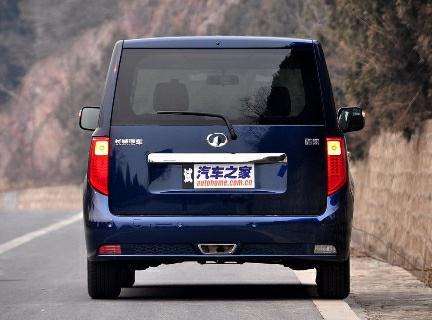长城-酷熊: (73, 32, 369, 310)
